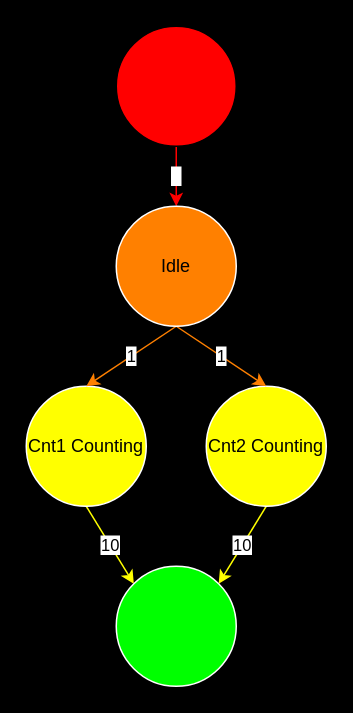
The diagram is 353 pixels wide and 713 high, and some of its shapes have lost their labels. Here are the shapes that lost their labels. From the top down, the centre of each, then its label:
(x=175, y=85): Start
(x=175, y=625): end
